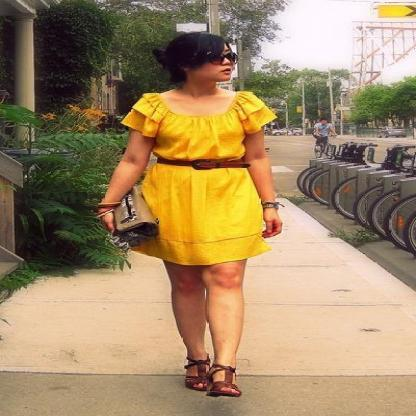bag: (97, 192, 158, 250)
dress: (121, 92, 276, 264)
shoe: (182, 348, 241, 396)
sunglass: (205, 45, 236, 65)
